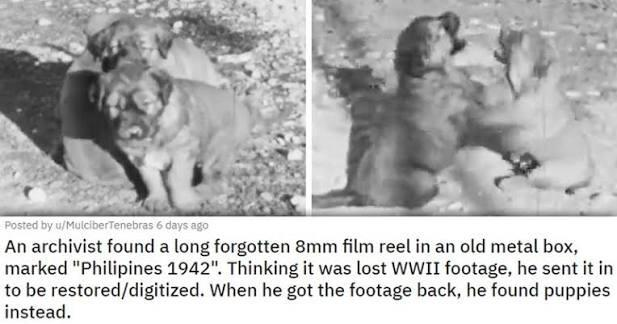puppy-dog: (309, 9, 496, 209), (440, 24, 596, 211), (89, 61, 258, 210), (87, 16, 227, 86)
